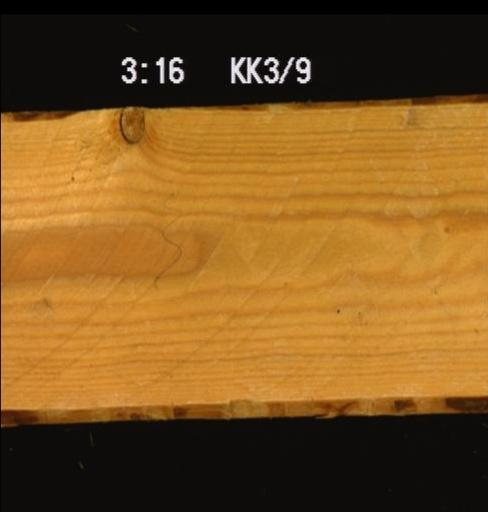edge_knot: (115, 106, 144, 144)
wave: (0, 394, 483, 424), (0, 105, 103, 130)
